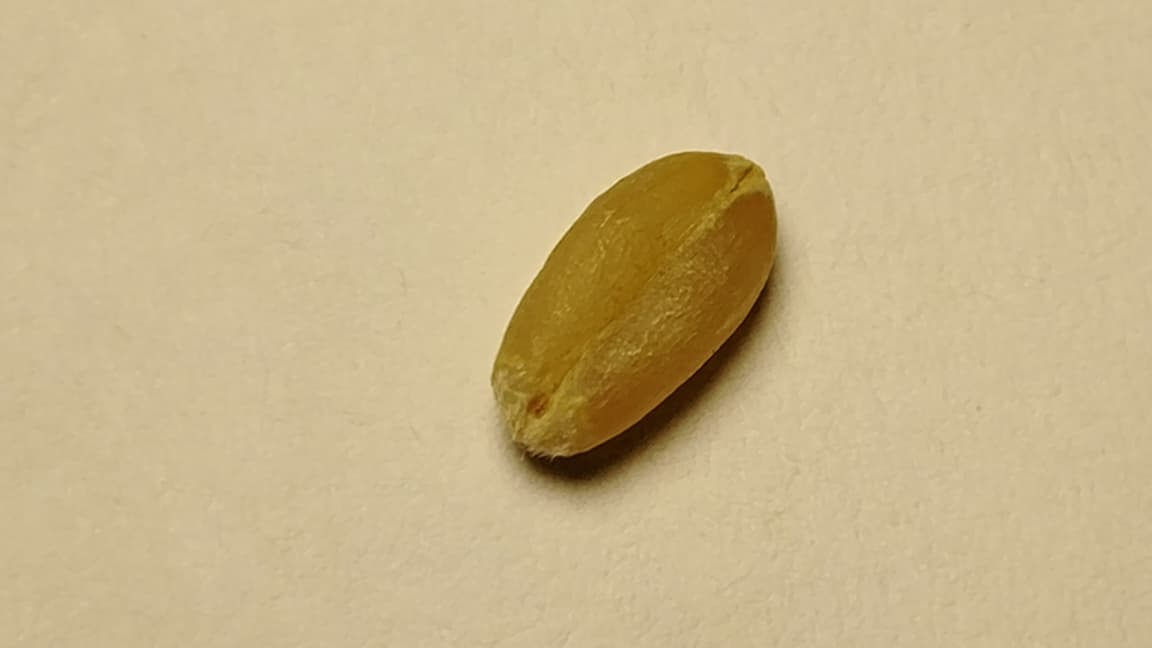healthy: (491, 151, 776, 456)
